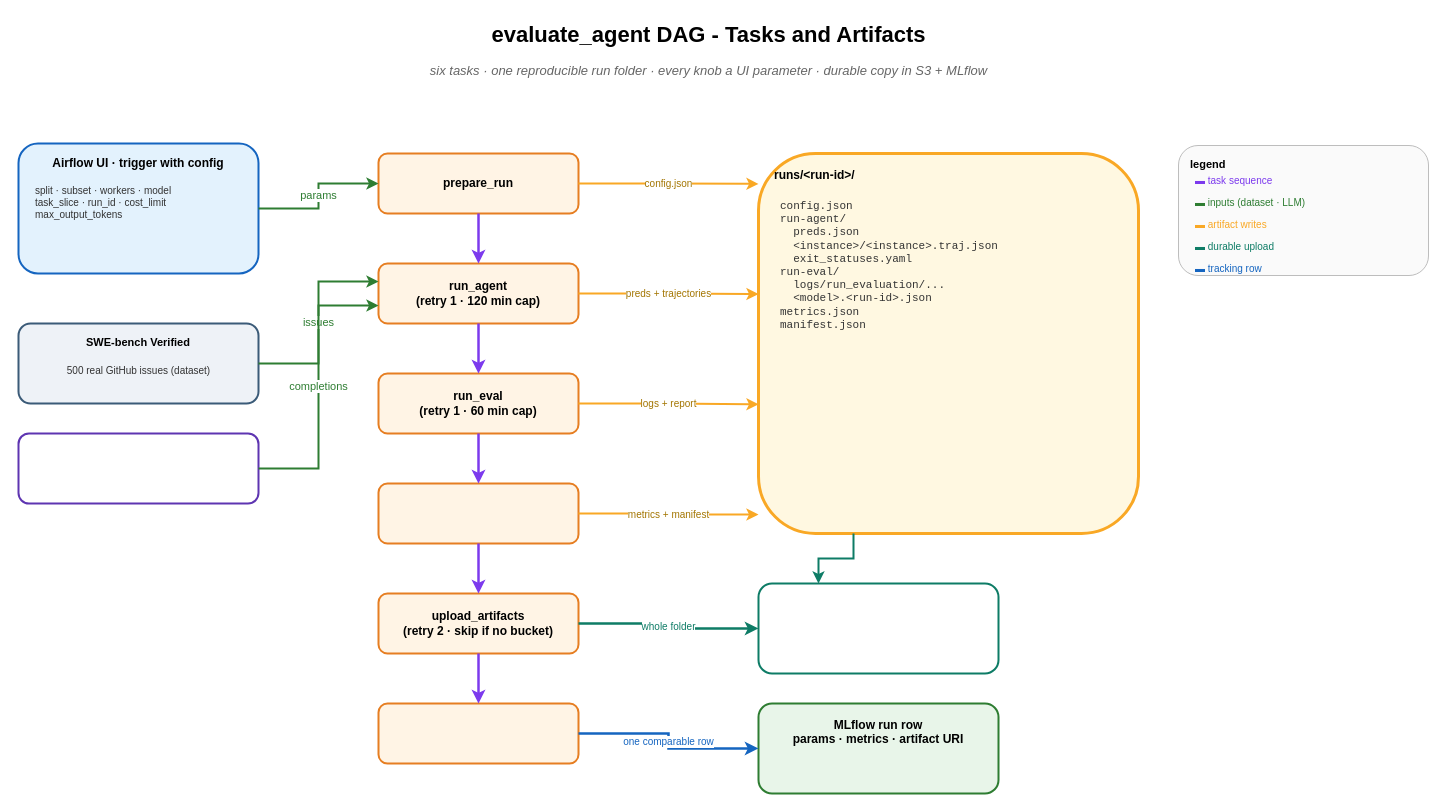
Image size: 1446x811. Some labels were removed from this diagram. Each missing label, with the centre of its shape:
log_mlflow (retry 2): (x=478, y=733)
Object Storage s3://bucket/runs/<run-id>/: (x=878, y=628)
summarize: (x=478, y=513)
Token Factory · Kimi-K2.6: (x=138, y=468)
